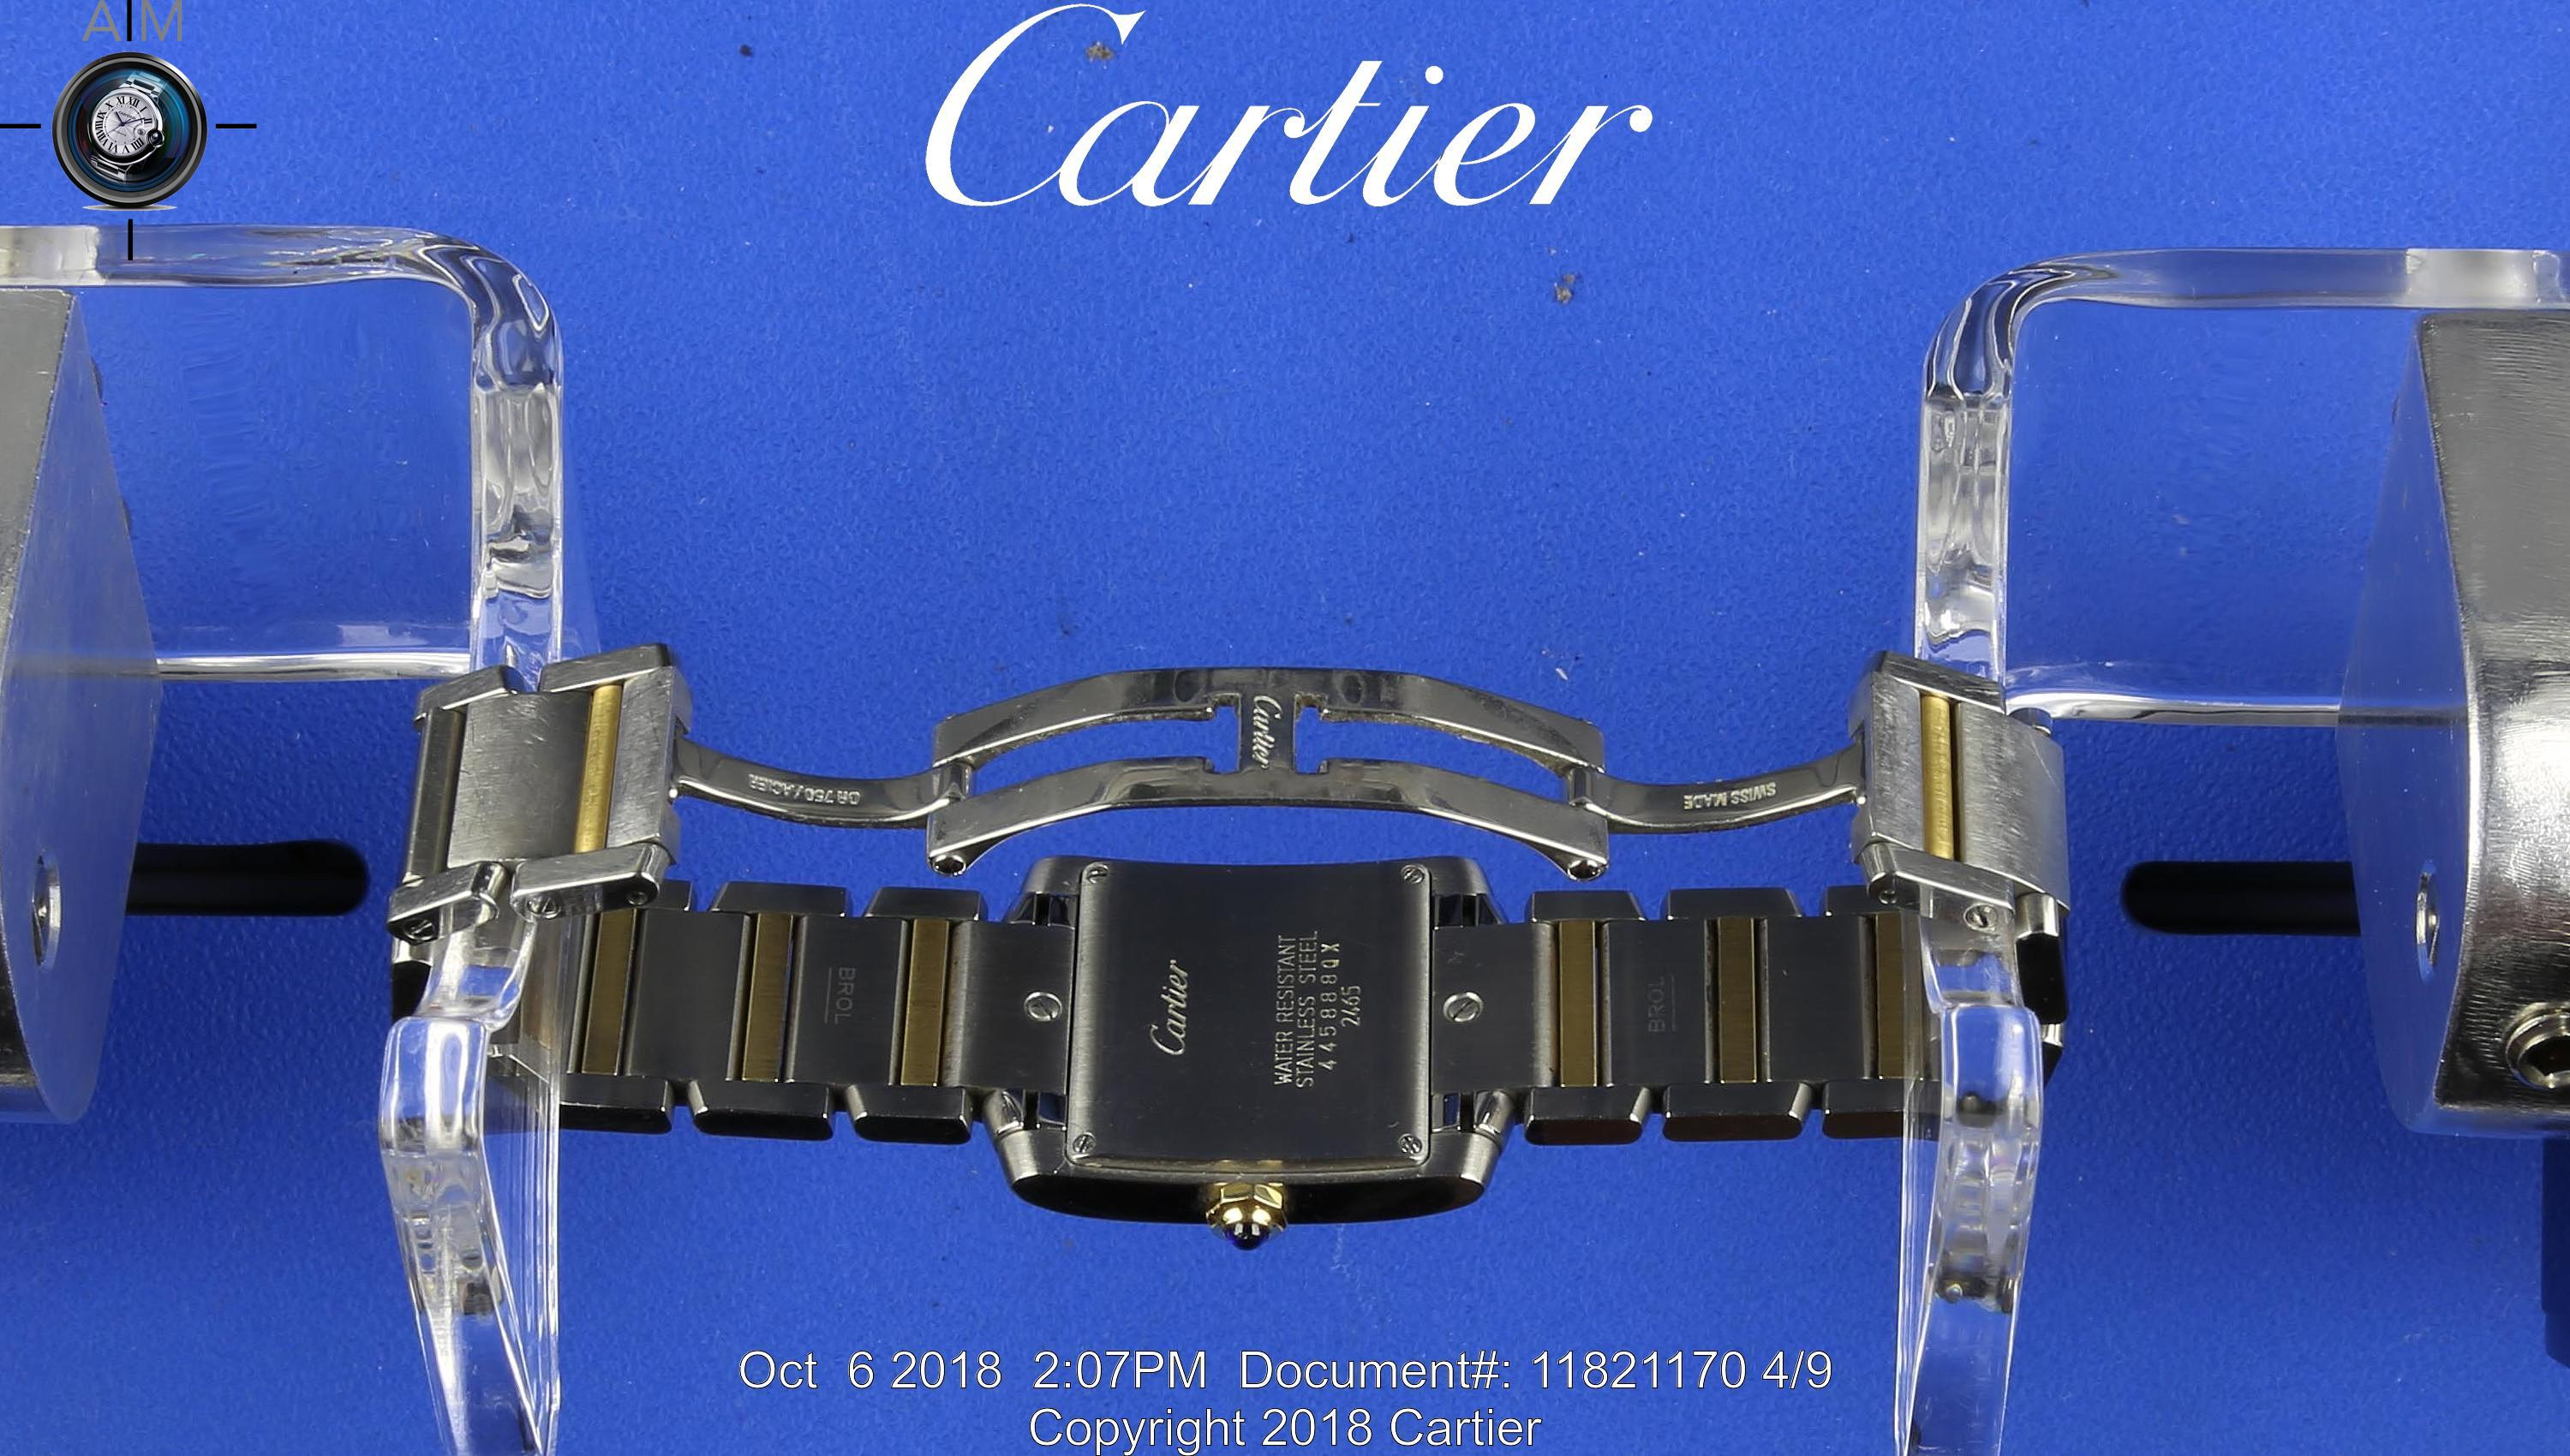watchback: (1070, 865, 1426, 1161)
